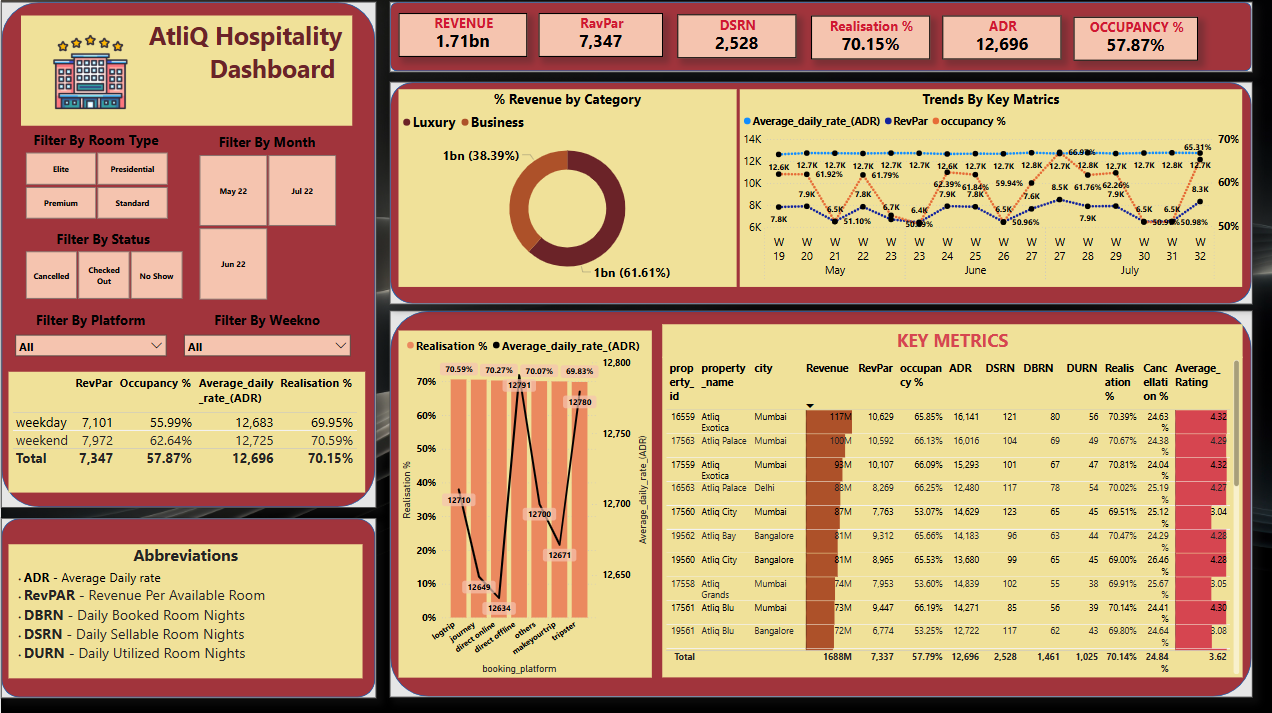

What the dashboard file says about the page in this screenshot:
{"tool":"powerbi","page":{"name":"dashboard","canvas":[1920,1080],"ordinal":0},"visuals":[{"type":"shape","box":[0,784,566,272],"z":0},{"type":"shape","box":[586,472,1302,584],"z":1000},{"type":"shape","box":[586,126,1302,336],"z":2000},{"type":"shape","box":[0,6,566,764],"z":3000},{"type":"tableEx","fields":{"Values":["dim_hotels.property_id","dim_hotels.property_name","dim_hotels.city","key_measures.Revenue","key_measures.RevPar","key_measures.occupancy %","key_measures.Average_daily_rate_(ADR)","key_measures.Daily_selleable_room_nights (DSRN)","key_measures.Daily_booked_room_nights(DBRN)","key_measures.Daily_utilized_room_nights(DURN)","key_measures.Realisation %","key_measures.Cancellation %"]},"box":[998,542,876,484],"z":4000},{"type":"slicer","title":"Filter By Status","fields":{"Values":["fact_bookings.booking_status"]},"box":[10.4,349.6,286,112],"z":5000},{"type":"slicer","title":"Filter By Platform","fields":{"Values":["fact_bookings.booking_platform"]},"box":[10.4,472.3,248.3,90],"z":6000},{"type":"slicer","title":"Filter By Room Type","fields":{"Values":["dim_rooms.room_class"]},"box":[10.4,199.6,264,140],"z":7000},{"type":"slicer","title":"Filter By Month","fields":{"Values":["dim_date.mmm yy"]},"box":[274.4,203.6,256,258],"z":8000},{"type":"slicer","title":"Filter By Weekno","fields":{"Values":["dim_date.week no"]},"box":[265.4,472.3,271.7,86.7],"z":9000},{"type":"shape","box":[586,6,1302,106],"z":10000},{"type":"card","title":"REVENUE","fields":{"Values":["key_measures.Revenue"]},"box":[600.7,22.7,194,66],"z":11000},{"type":"card","title":"OCCUPANCY %","fields":{"Values":["key_measures.occupancy %"]},"box":[1618.7,28.7,188,66],"z":12000},{"type":"card","title":"RavPar","fields":{"Values":["key_measures.RevPar"]},"box":[810.7,22.7,188,66],"z":13000},{"type":"donutChart","title":"% Revenue by Category","fields":{"Category":["dim_hotels.category"],"Y":["key_measures.Revenue"]},"box":[600,138,510,298],"z":15000},{"type":"card","title":"DSRN","fields":{"Values":["key_measures.Daily_selleable_room_nights (DSRN)"]},"box":[1020.7,24.7,180,66],"z":16000},{"type":"card","title":"ADR","fields":{"Values":["key_measures.Average_daily_rate_(ADR)"]},"box":[1420.7,26.7,180,66],"z":17000},{"type":"card","title":"Realisation %","fields":{"Values":["key_measures.Realisation %"]},"box":[1222.7,26.7,180,66],"z":18000},{"type":"lineChart","title":"Trends By Key Matrics","fields":{"Category":["dim_date.mmm yy.Variation.Date Hierarchy.Month","dim_date.week no"],"Y":["key_measures.Average_daily_rate_(ADR)","key_measures.RevPar"],"Y2":["key_measures.occupancy %"]},"box":[1116,138,758,298],"z":19000},{"type":"lineClusteredColumnComboChart","fields":{"Category":["fact_bookings.booking_platform"],"Y":["key_measures.Realisation %"],"Y2":["key_measures.Average_daily_rate_(ADR)"]},"box":[600,502,382,524],"z":20000},{"type":"tableEx","fields":{"Values":["dim_date.day_type","key_measures.RevPar","key_measures.occupancy %","key_measures.Average_daily_rate_(ADR)","key_measures.Realisation %"]},"box":[10.4,563.6,538,182],"z":21000},{"type":"textbox","title":"Abbreviations","box":[12,824,534,202],"z":21001},{"type":"textbox","box":[998,492,876,50],"z":21002},{"type":"textbox","box":[30,26,500,166],"z":21011},{"type":"image","box":[50,50,168,122],"z":21012}]}

Visuals, with their boxes in screenshot pixels (x1, y1, x2, y2), scaled from the page's 1920x1080 canvas onto the 1272x713 screenshot:
shape: BBox(0, 518, 375, 697)
shape: BBox(388, 312, 1251, 697)
shape: BBox(388, 83, 1251, 305)
shape: BBox(0, 4, 375, 508)
tableEx - dim_hotels.property_id x dim_hotels.property_name: BBox(661, 358, 1242, 677)
"Filter By Status" slicer: BBox(7, 231, 196, 305)
"Filter By Platform" slicer: BBox(7, 312, 171, 371)
"Filter By Room Type" slicer: BBox(7, 132, 182, 224)
"Filter By Month" slicer: BBox(182, 134, 351, 305)
"Filter By Weekno" slicer: BBox(176, 312, 356, 369)
shape: BBox(388, 4, 1251, 74)
"REVENUE" card: BBox(398, 15, 526, 59)
"OCCUPANCY %" card: BBox(1072, 19, 1197, 63)
"RavPar" card: BBox(537, 15, 662, 59)
"% Revenue by Category" donutChart: BBox(398, 91, 735, 288)
"DSRN" card: BBox(676, 16, 795, 60)
"ADR" card: BBox(941, 18, 1060, 61)
"Realisation %" card: BBox(810, 18, 929, 61)
"Trends By Key Matrics" lineChart: BBox(739, 91, 1242, 288)
lineClusteredColumnComboChart - fact_bookings.booking_platform x key_measures.Realisation %: BBox(398, 331, 651, 677)
tableEx - dim_date.day_type x key_measures.RevPar: BBox(7, 372, 363, 492)
"Abbreviations" textbox: BBox(8, 544, 362, 677)
textbox: BBox(661, 325, 1242, 358)
textbox: BBox(20, 17, 351, 127)
image: BBox(33, 33, 144, 114)
